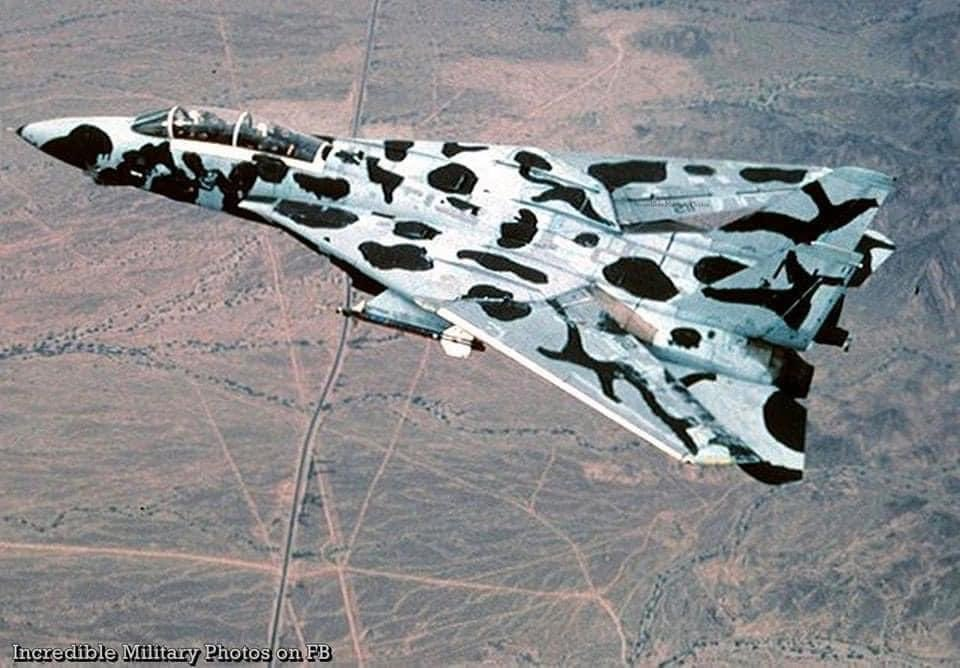F14: (4, 105, 900, 486)
